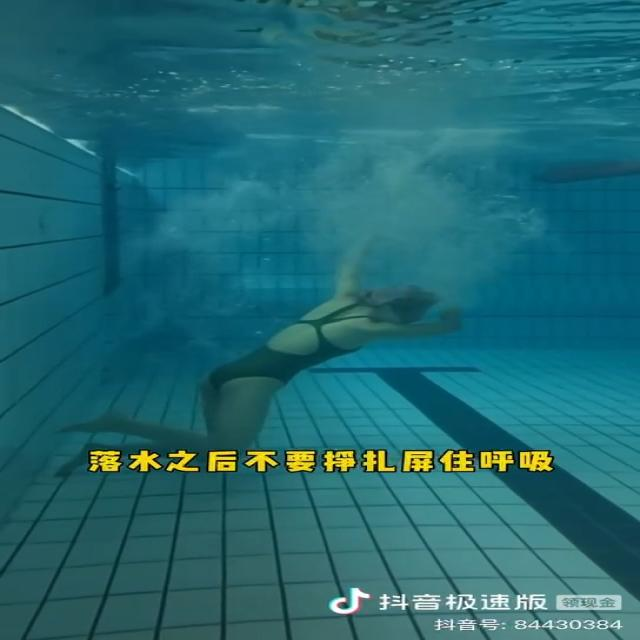Drowning: (57, 234, 476, 476)
